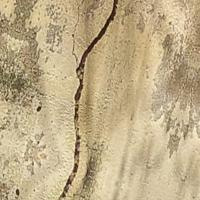crack: (48, 0, 131, 199)
